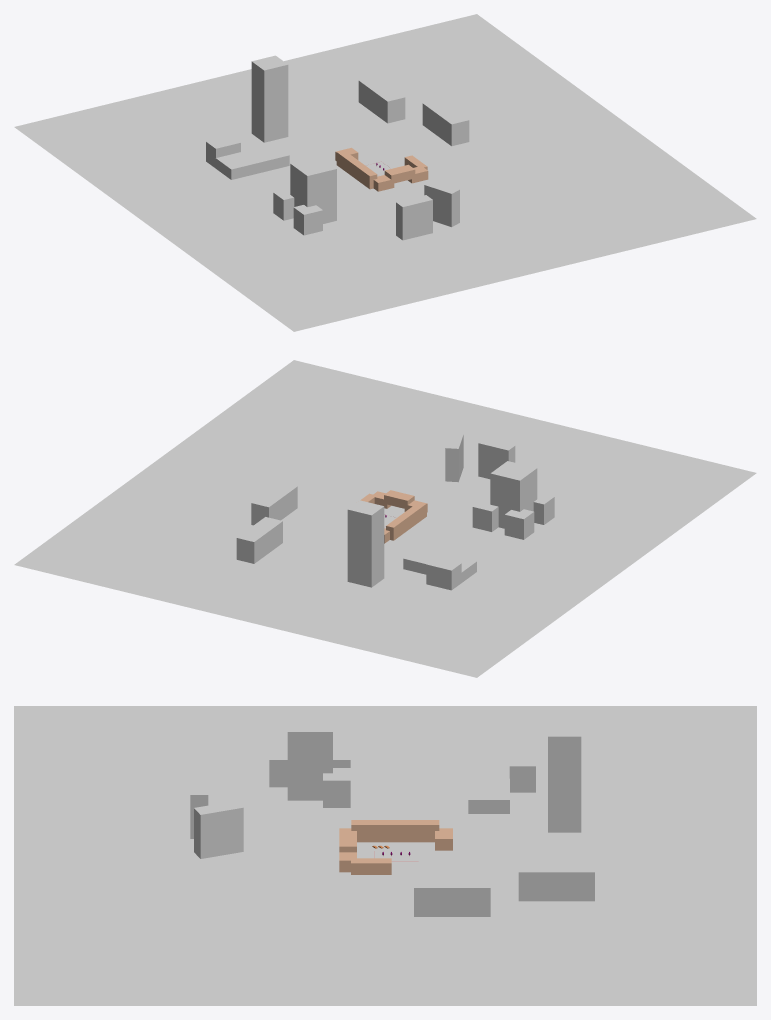
The picture shows the model from 3 angles, top to bottom: view 1: azimuth 30°, elevation 25°; view 2: azimuth 150°, elevation 25°; view 3: azimuth 270°, elevation 25°; orthographic projection. The views are drawn at different scales.
Parts seen in each view (by area): view 1: Plane01, Box04, Box11, Box05, Box02, Box01, Box12, Box13, Box10, Box18, Box06, Box07; view 2: Plane01, Box04, Box11, Box01, Box02, Box12, Box05, Box06, Box13, Box07, Box18, Box08 (+1 smaller); view 3: Plane01, Box11, Box04, Box02, Box01, Box13, Box05, Box18, Box06, Box08, Box10, Box12 (+1 smaller).
Part boxes in pixels (<box>): Plane01: <box>14,14,756,331</box>; Box04: <box>251,55,288,142</box>; Box11: <box>290,156,336,223</box>; Box05: <box>215,144,289,179</box>; Box02: <box>422,99,469,146</box>; Box01: <box>358,76,405,123</box>; Box12: <box>396,195,432,240</box>; Box13: <box>424,180,459,227</box>; Box10: <box>293,205,322,235</box>; Box18: <box>336,150,377,189</box>; Box06: <box>206,135,240,168</box>; Box07: <box>273,188,294,220</box>; Plane01: <box>14,360,756,677</box>; Box04: <box>347,500,384,587</box>; Box11: <box>490,461,537,528</box>; Box01: <box>236,517,282,563</box>; Box02: <box>251,482,297,525</box>; Box12: <box>478,438,515,479</box>; Box05: <box>403,547,476,582</box>; Box06: <box>426,557,461,590</box>; Box13: <box>445,433,463,482</box>; Box07: <box>504,509,534,539</box>; Box18: <box>386,501,426,540</box>; Box08: <box>472,499,498,531</box>; Plane01: <box>14,706,756,1005</box>; Box11: <box>287,712,332,800</box>; Box04: <box>548,721,581,832</box>; Box02: <box>414,876,490,916</box>; Box01: <box>518,861,594,901</box>; Box13: <box>194,800,243,858</box>; Box05: <box>468,762,509,813</box>; Box18: <box>351,820,439,842</box>; Box06: <box>509,750,535,792</box>; Box08: <box>323,768,350,807</box>; Box10: <box>269,747,287,787</box>; Box12: <box>190,775,208,838</box>.
Bounding box in the file's own units: 1108 × 1160 × 165.
